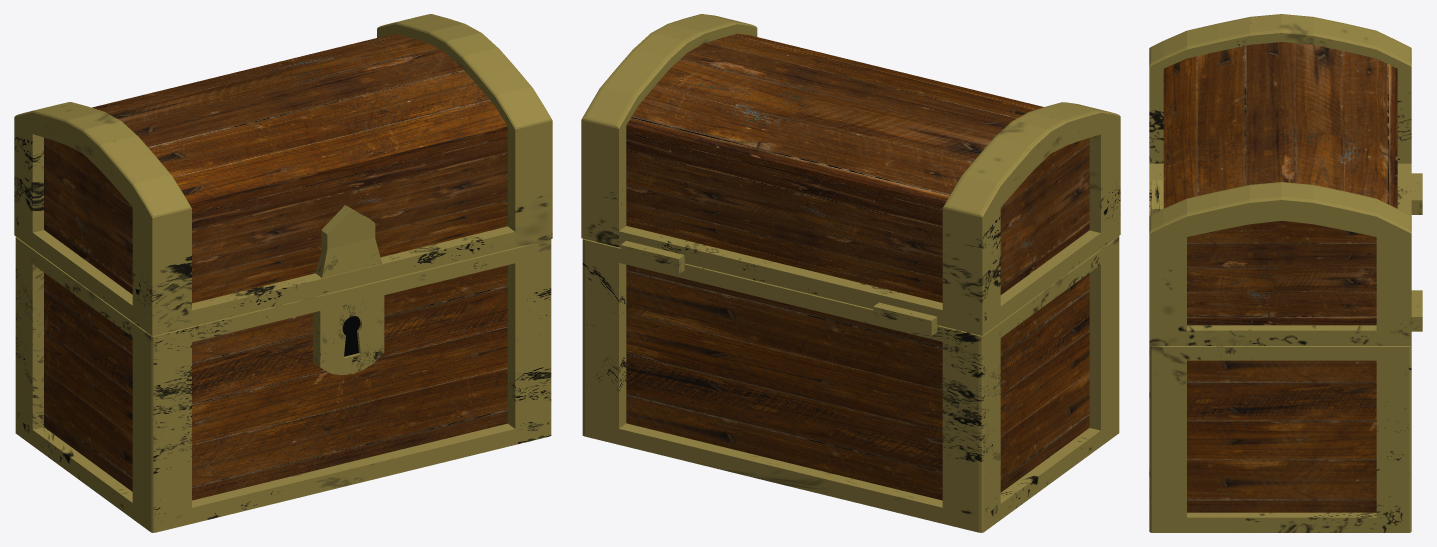
Rendered from 보물상자.fbx.
The picture shows the model from 3 angles, left to right: view 1: azimuth 30°, elevation 25°; view 2: azimuth 150°, elevation 25°; view 3: azimuth 270°, elevation 25°; orthographic projection. The views are drawn at different scales.
Parts seen in each view (by area): view 1: Cube.001, Cube.004, Cube, Cube.002, Cube.005; view 2: Cube.001, Cube.004, Cube, Cube.002, Cube.006; view 3: Cube.001, Cube.002, Cube.004, Cube, Cube.006, Cube.005.
Part boxes in pixels (x1,y1,x2,y2): Cube.001: (44,33,507,303); Cube.004: (44,265,507,500); Cube: (15,236,551,532); Cube.002: (14,14,552,336); Cube.005: (313,205,384,375); Cube.001: (626,33,1089,302); Cube.004: (626,264,1089,500); Cube: (582,236,1119,532); Cube.002: (581,14,1120,335); Cube.006: (620,241,937,335); Cube.001: (1163,42,1397,325); Cube.002: (1149,14,1411,345); Cube.004: (1187,360,1376,512); Cube: (1149,346,1411,532); Cube.006: (1411,173,1422,331); Cube.005: (1151,180,1163,214).
Size of what is drawn, in the model's own units: 450 by 379 by 280.
Materials: 3 (2 with a texture image).
